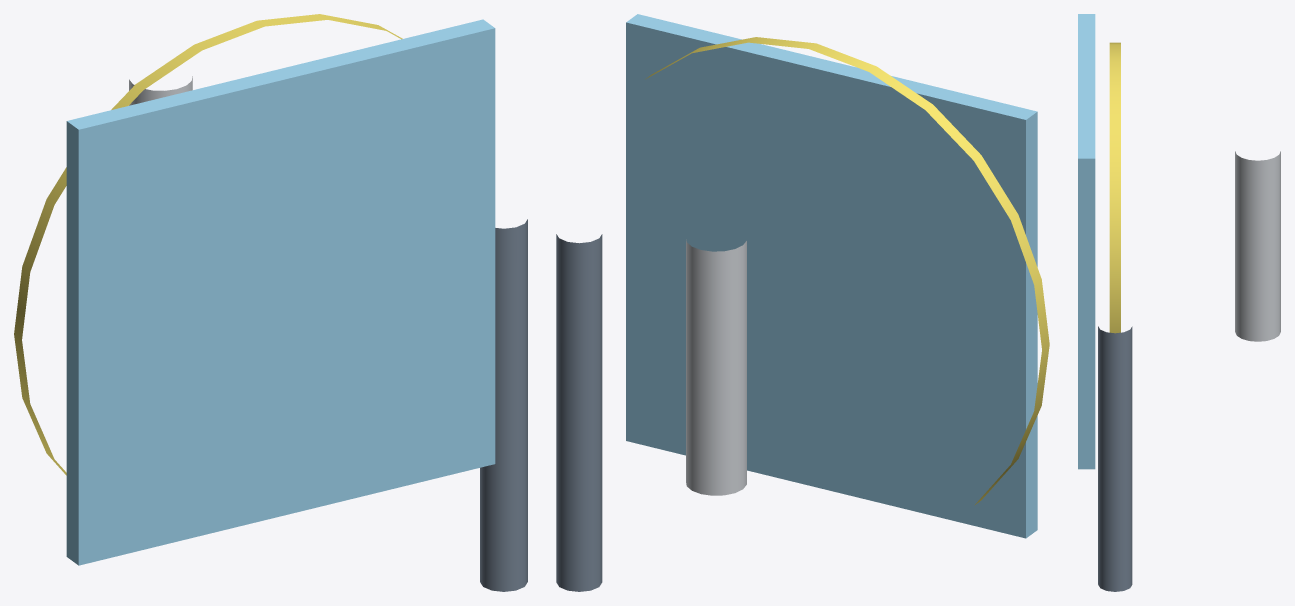
The model's file is parallel_plate_capacitor_permittivity.glb.
3 renders of one model, left to right at view 1: azimuth 30°, elevation 25°; view 2: azimuth 150°, elevation 25°; view 3: azimuth 270°, elevation 25°, orthographic. The views are drawn at different scales.
Parts seen in each view (by area): view 1: DielectricMaterialSheetInsert, InsulatingBakeliteSupportPillars, CircularBrassParallelPlates; view 2: DielectricMaterialSheetInsert, InsulatingBakeliteSupportPillars, AdjustableAirGapMicrometerHead, CircularBrassParallelPlates; view 3: InsulatingBakeliteSupportPillars, AdjustableAirGapMicrometerHead, DielectricMaterialSheetInsert, CircularBrassParallelPlates.
Boxes of the visible parts, x1,y1,x2,y2 form: DielectricMaterialSheetInsert: [66, 19, 495, 565]; InsulatingBakeliteSupportPillars: [480, 219, 527, 591]; CircularBrassParallelPlates: [14, 14, 402, 475]; DielectricMaterialSheetInsert: [626, 14, 1037, 538]; InsulatingBakeliteSupportPillars: [556, 234, 602, 591]; AdjustableAirGapMicrometerHead: [686, 239, 746, 495]; CircularBrassParallelPlates: [645, 37, 1049, 505]; InsulatingBakeliteSupportPillars: [1098, 326, 1132, 591]; AdjustableAirGapMicrometerHead: [1235, 151, 1280, 341]; DielectricMaterialSheetInsert: [1078, 14, 1095, 469]; CircularBrassParallelPlates: [1109, 42, 1120, 333].
Bounding box in the file's own units: 0.73 × 0.85 × 0.355.
